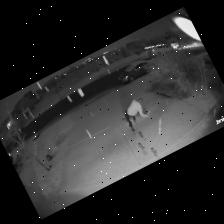person: (124, 98, 146, 131)
